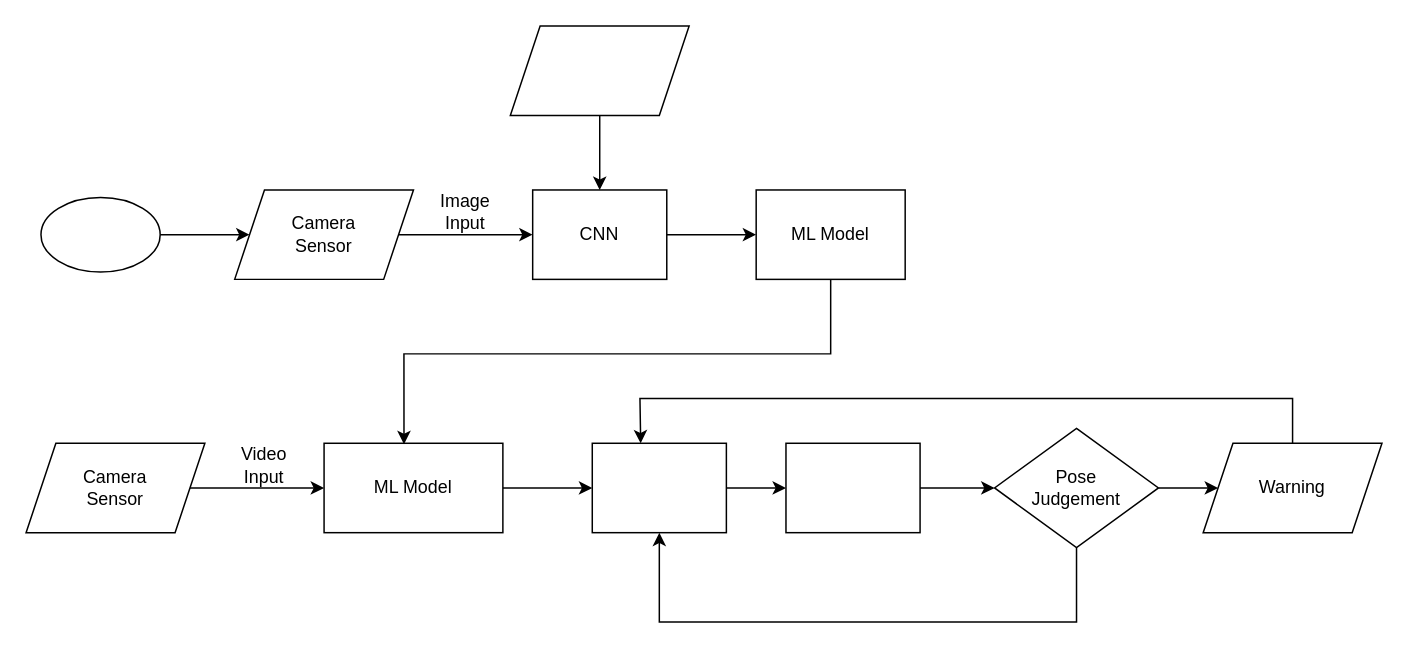
Image size: 1408x660. Some labels were removed from this diagram. Here are the shapes that lost their labels. From the top down, the centre of each, then its label:
At (x=599, y=70): "COCO Dataset".
At (x=99, y=234): "Start".
At (x=658, y=487): "Angle Calculation".
At (x=852, y=487): "Score Calculation".
